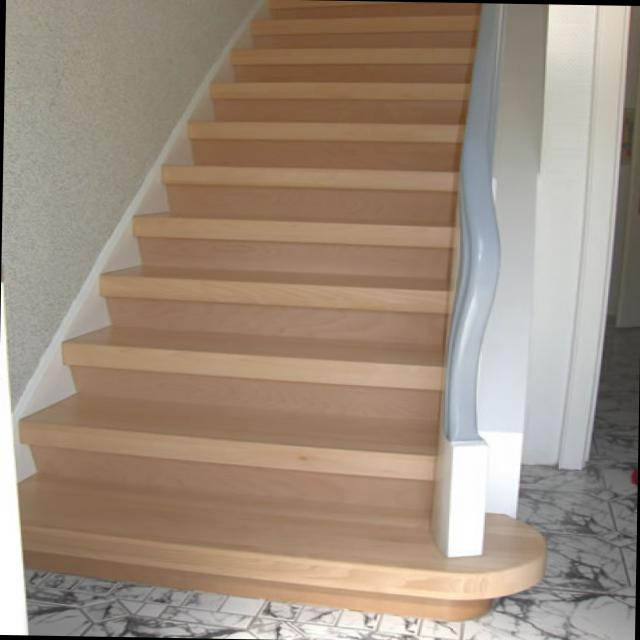door opening: (604, 5, 640, 323)
floor -X: (22, 313, 637, 640)
handrail: (425, 3, 507, 558)
staircase: (16, 0, 543, 618)
wall clock: (2, 0, 266, 482), (472, 3, 628, 515), (0, 281, 24, 633)
